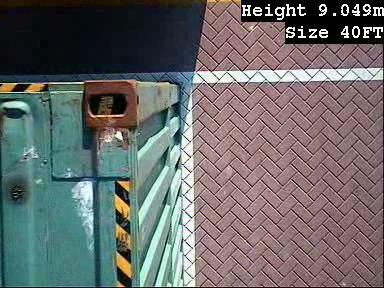groundmarker_2: (10, 1, 99, 128)
